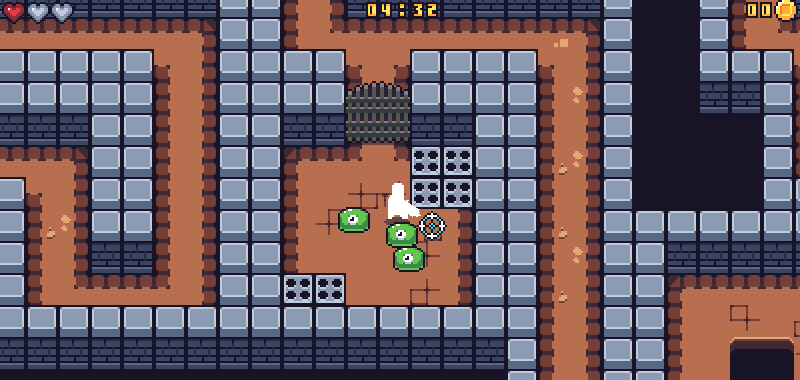enemy_slug_big: (384, 221, 418, 250), (390, 246, 424, 273), (337, 206, 369, 233)
trap_door: (343, 81, 414, 144)
trap_off: (410, 146, 476, 206), (282, 271, 346, 305)
